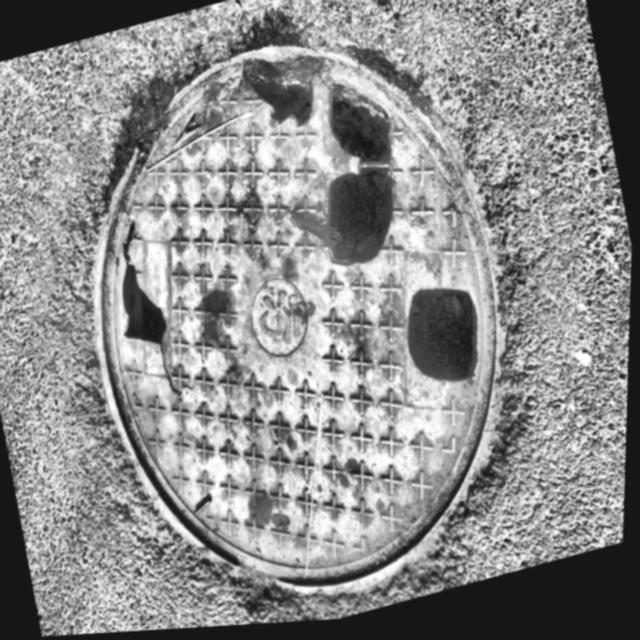open_manhole: (97, 47, 505, 596)
